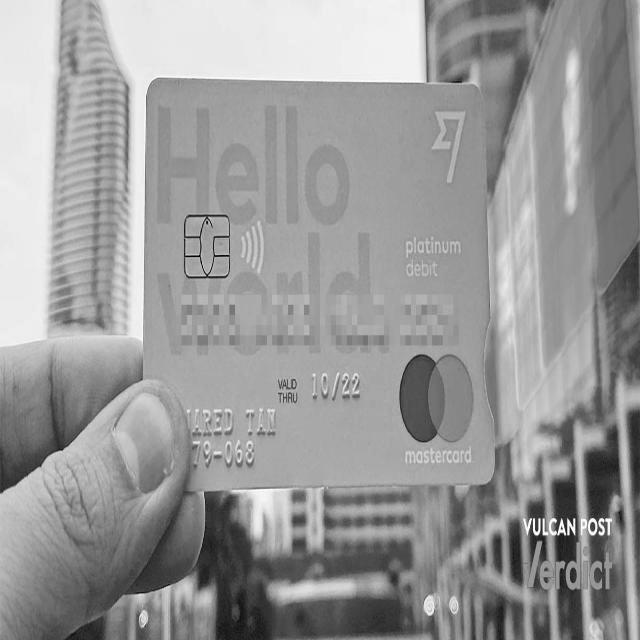card: (142, 80, 496, 492)
